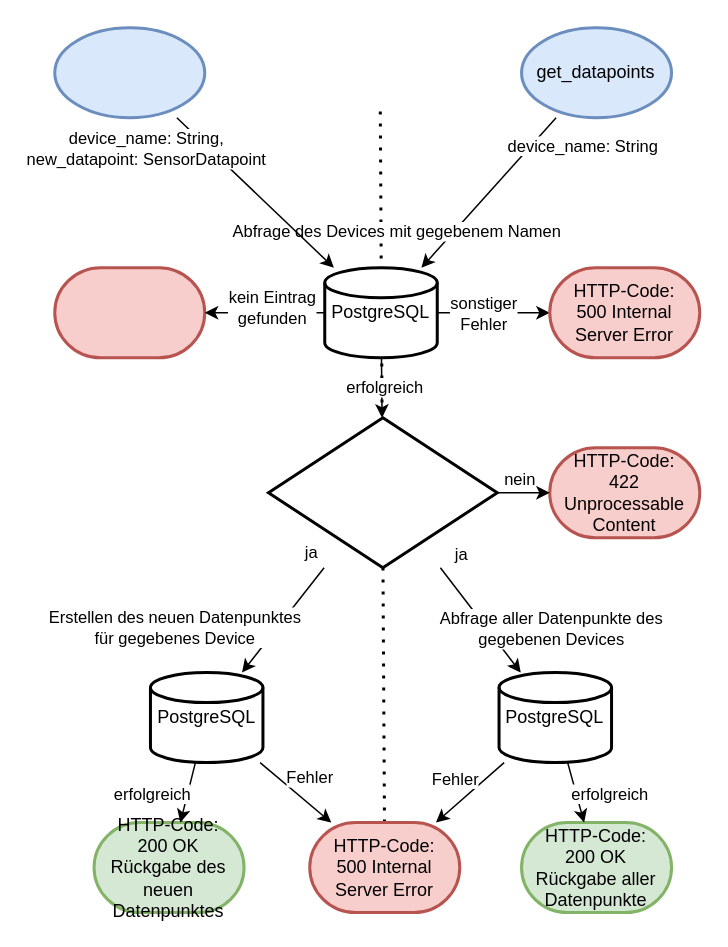
The diagram is 728 pixels wide and 947 high, and some of its shapes have lost their labels. Here are the shapes that lost their labels. From the top down, the centre of each, then its label:
At (x=129, y=72): "new_datapoint".
At (x=129, y=312): "HTTP-Code: 404 Not Found".
At (x=382, y=492): "Ist das gefundene De- vice vom Typ Sensor?".
